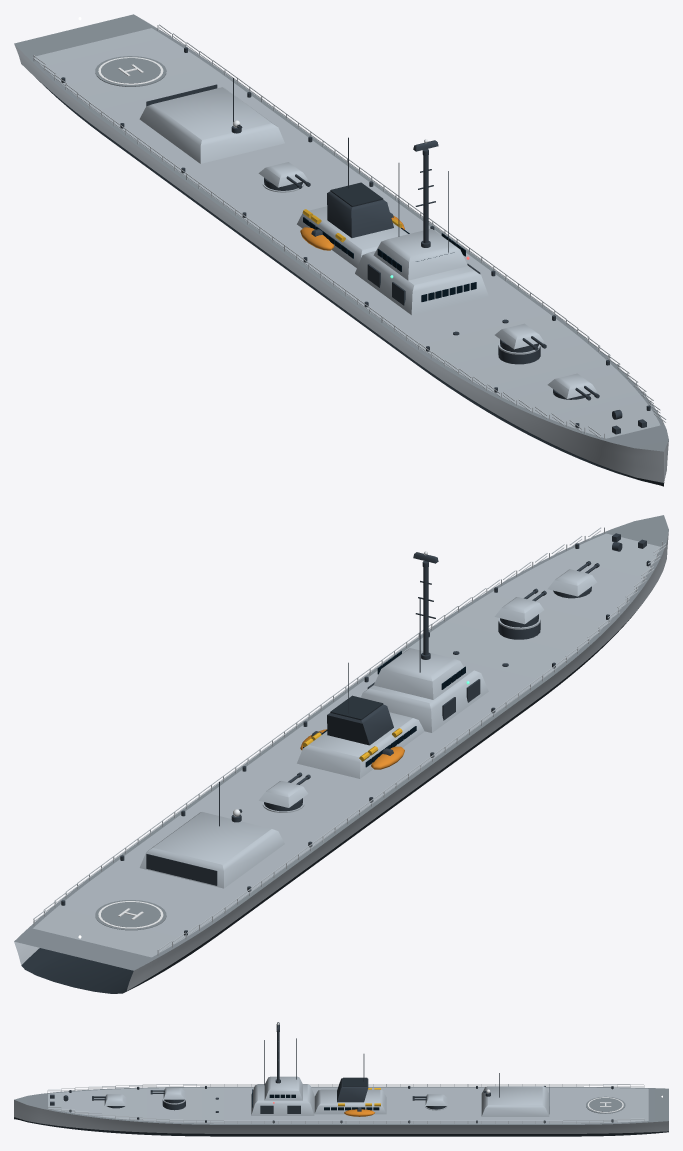
File: ship_cruiser.glb
3 renders of one model, top to bottom at view 1: azimuth 30°, elevation 25°; view 2: azimuth 150°, elevation 25°; view 3: azimuth 270°, elevation 25°, orthographic. The views are drawn at different scales.
Parts seen in each view (by area): view 1: deck_plate, hull, deck, hangar, rails, bridge1, bridge2, funnel_1, hull_under, midhouse, helideck_inner, funnel_1_grill (+3 smaller); view 2: deck_plate, deck, hull, hangar, hull_under, rails, midhouse, bridge2, bridge1, funnel_1, helideck_inner, hangar_door (+4 smaller); view 3: deck_plate, hull, deck, rails, hangar, hull_under, midhouse, bridge1, bridge2, funnel_1, helideck_inner, turret_shield_2 (+5 smaller).
Boxes of the visible parts, bbox=[...] form: deck_plate: bbox=[33, 28, 660, 438]; hull: bbox=[14, 44, 668, 482]; deck: bbox=[14, 14, 668, 451]; hangar: bbox=[139, 87, 284, 163]; rails: bbox=[33, 24, 666, 439]; bridge1: bbox=[355, 251, 488, 315]; bridge2: bbox=[373, 228, 467, 280]; funnel_1: bbox=[327, 191, 393, 237]; hull_under: bbox=[36, 78, 664, 486]; midhouse: bbox=[297, 206, 408, 267]; helideck_inner: bbox=[101, 58, 160, 83]; funnel_1_grill: bbox=[330, 182, 383, 206]; deck_plate: bbox=[33, 533, 660, 957]; deck: bbox=[14, 515, 668, 970]; hull: bbox=[14, 531, 668, 990]; hangar: bbox=[139, 812, 284, 888]; hull_under: bbox=[21, 608, 638, 993]; rails: bbox=[33, 527, 666, 955]; midhouse: bbox=[297, 712, 424, 778]; bridge2: bbox=[373, 648, 467, 699]; bridge1: bbox=[361, 668, 488, 732]; funnel_1: bbox=[327, 704, 393, 745]; helideck_inner: bbox=[101, 902, 160, 927]; hangar_door: bbox=[146, 854, 217, 885]; deck_plate: bbox=[48, 1087, 648, 1123]; hull: bbox=[14, 1100, 668, 1133]; deck: bbox=[14, 1086, 668, 1124]; rails: bbox=[47, 1084, 644, 1124]; hangar: bbox=[481, 1086, 549, 1116]; hull_under: bbox=[14, 1117, 668, 1136]; midhouse: bbox=[314, 1089, 386, 1114]; bridge1: bbox=[251, 1084, 314, 1115]; bridge2: bbox=[264, 1076, 302, 1100]; funnel_1: bbox=[337, 1078, 368, 1102]; helideck_inner: bbox=[589, 1098, 622, 1111]; turret_shield_2: bbox=[163, 1088, 185, 1099].
Bounding box in the file's own units: 4 × 5.09 × 29.
